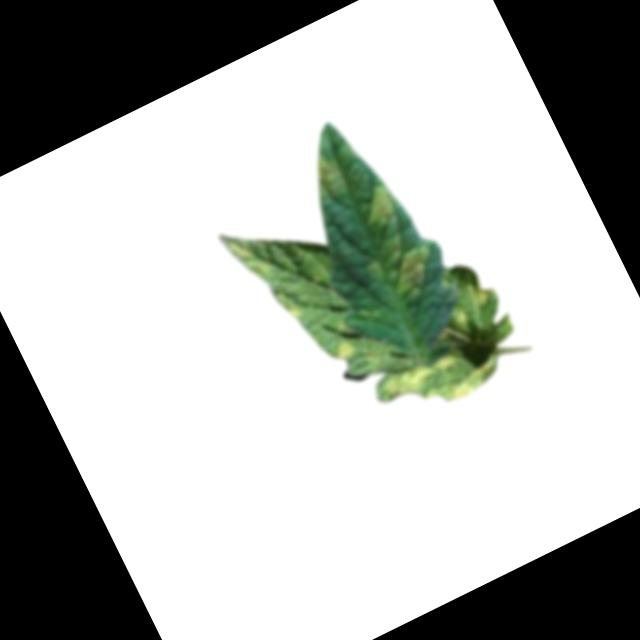Leaf_Mold: (377, 331, 501, 430), (375, 242, 443, 311), (352, 176, 407, 237), (301, 149, 351, 206), (329, 331, 362, 367)
